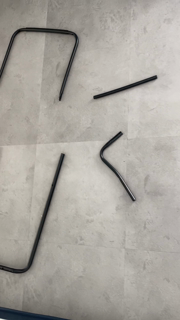C pipe: (1, 26, 83, 107)
L pipe: (95, 128, 143, 207)
i pipe: (90, 73, 162, 105)
